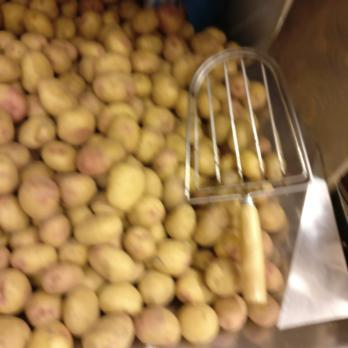Floury potato: (0, 0, 190, 348), (191, 28, 264, 340)
